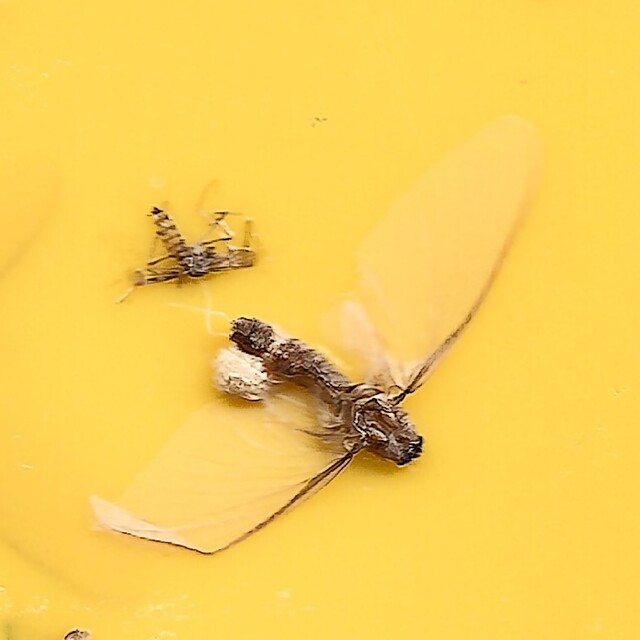Ephemeroptera: (80, 81, 560, 559)
